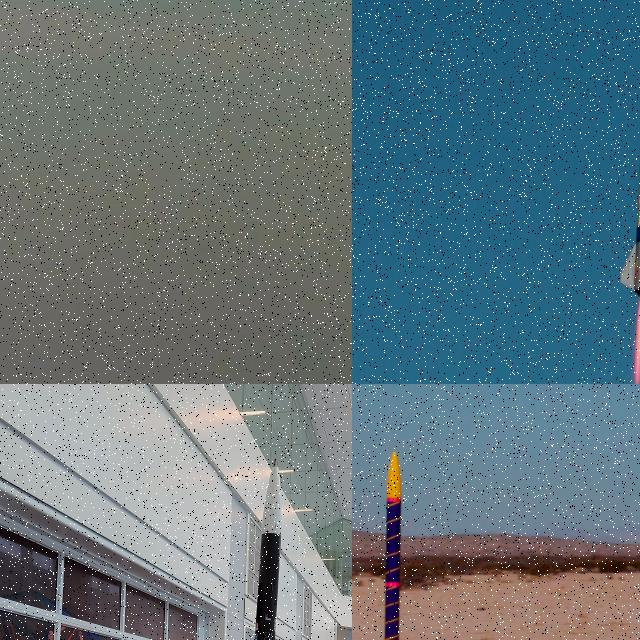Rocket: (368, 451, 416, 640), (619, 10, 640, 297), (255, 458, 282, 640)
